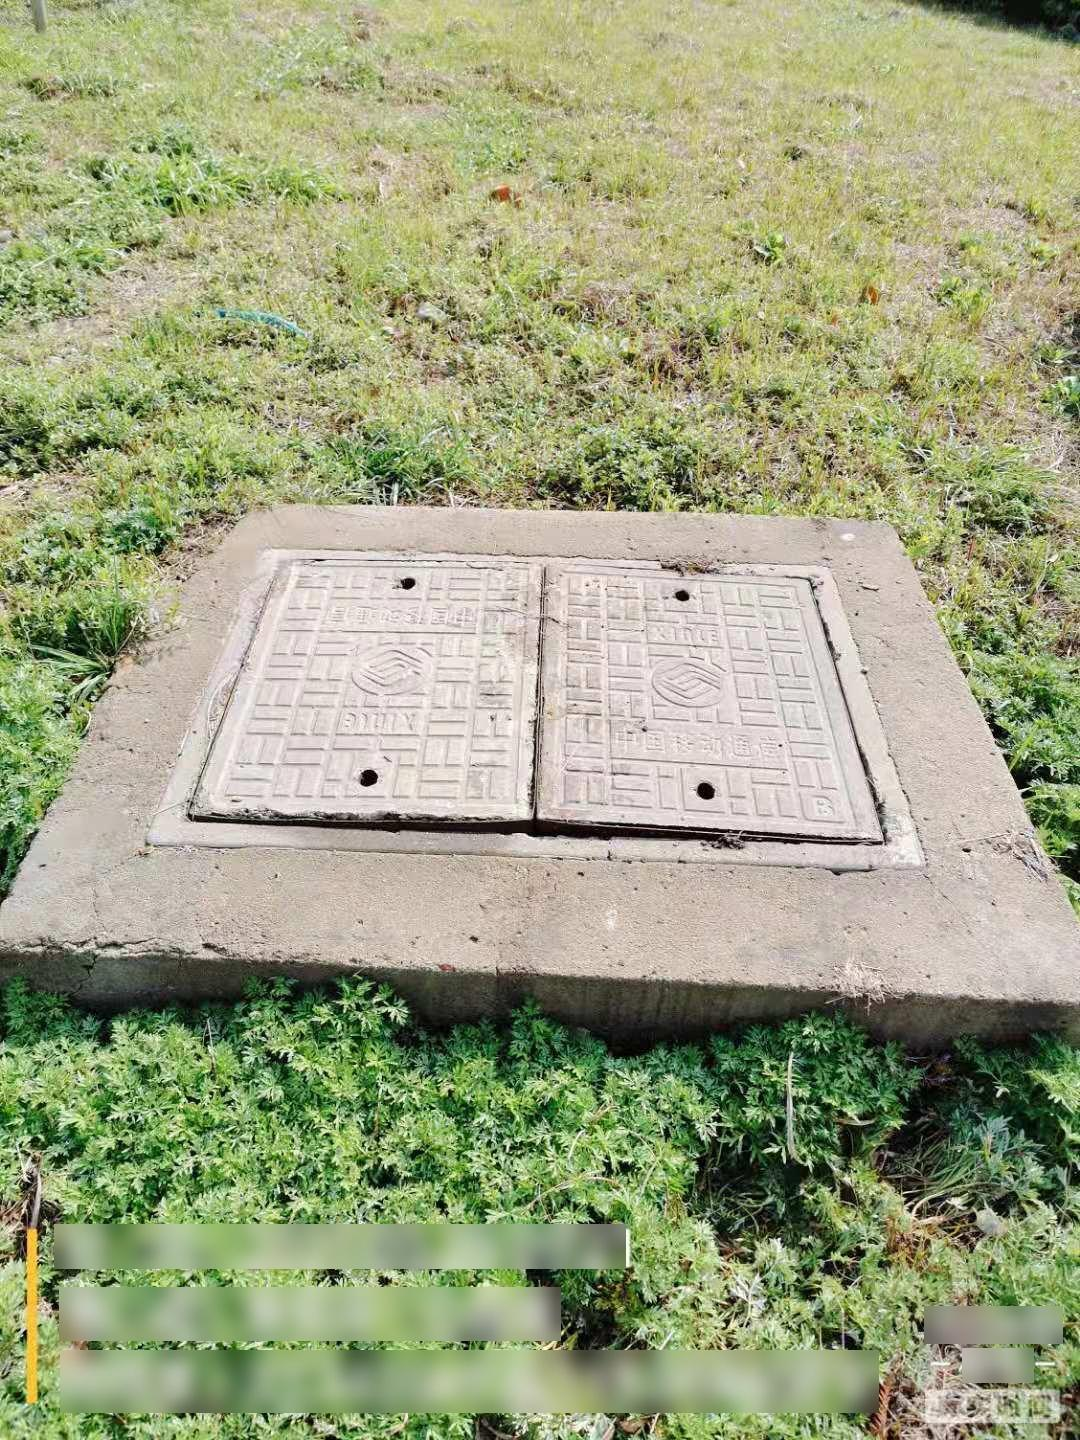wellcover: (66, 478, 1068, 1017)
